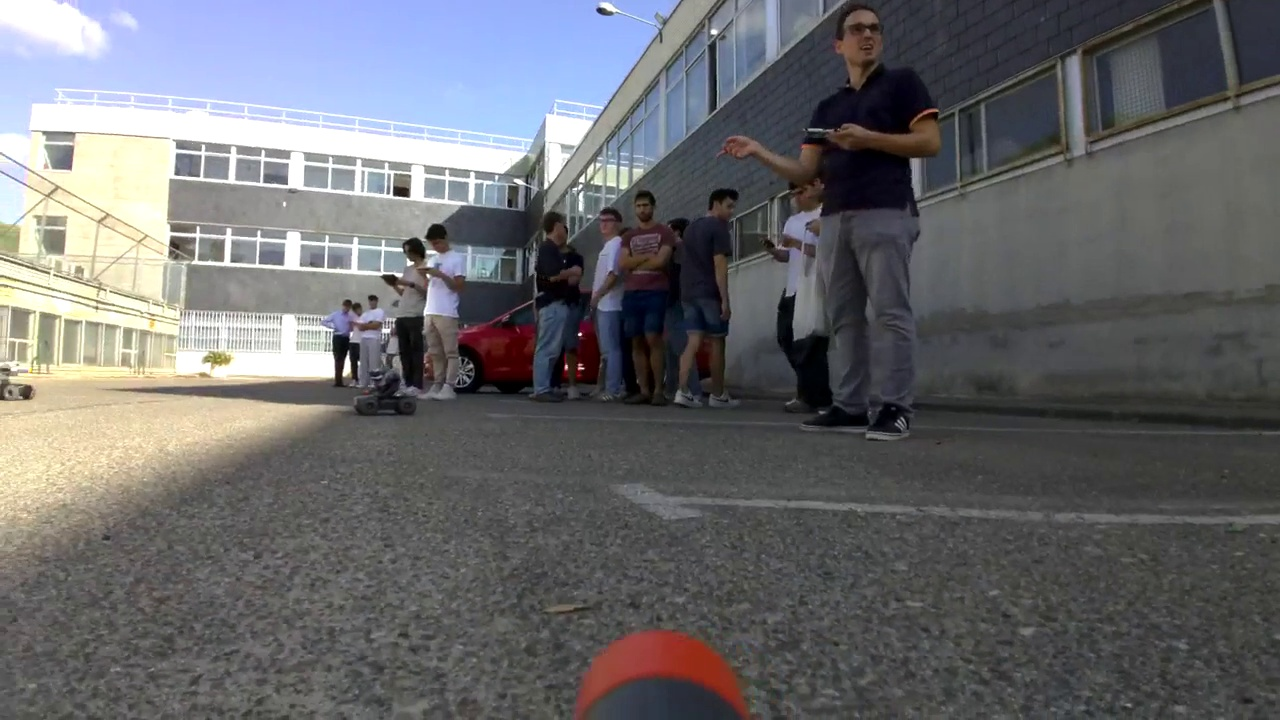robot: (351, 365, 418, 417), (1, 362, 36, 396)
